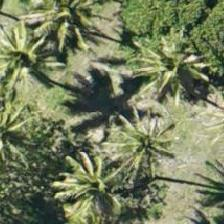coconut_tree: (94, 105, 184, 195), (126, 1, 216, 91), (47, 135, 137, 223), (28, 0, 118, 70), (0, 13, 55, 103), (0, 87, 46, 177)
